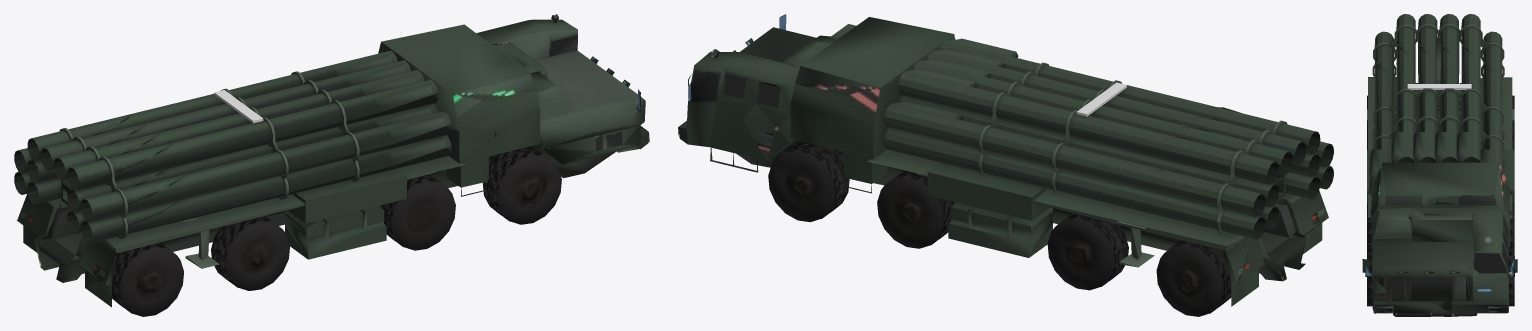
File: tornado.glb
The picture shows the model from 3 angles, left to right: view 1: azimuth 30°, elevation 25°; view 2: azimuth 150°, elevation 25°; view 3: azimuth 270°, elevation 25°; orthographic projection. The views are drawn at different scales.
Parts seen in each view (by area): view 1: g_tornado_hull, g_tornado_turret; view 2: g_tornado_hull, g_tornado_turret; view 3: g_tornado_hull, g_tornado_turret.
Boxes of the visible parts, bbox=[...] form: g_tornado_hull: bbox=[17, 14, 649, 316]; g_tornado_turret: bbox=[14, 50, 451, 243]; g_tornado_hull: bbox=[678, 14, 1328, 316]; g_tornado_turret: bbox=[884, 38, 1333, 239]; g_tornado_hull: bbox=[1362, 77, 1517, 316]; g_tornado_turret: bbox=[1369, 14, 1504, 196].
Size of the model in its own units: 12.1 by 3.03 by 3.57.
3 materials, 2 textured.
